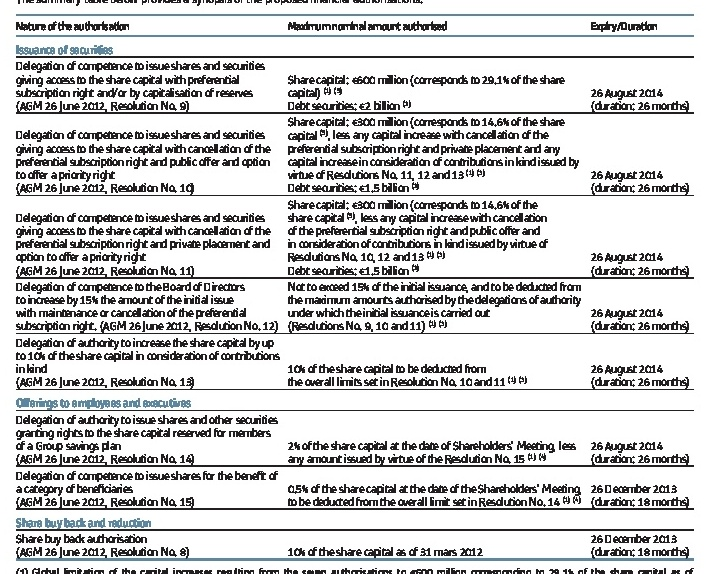table: (0, 0, 706, 574)
